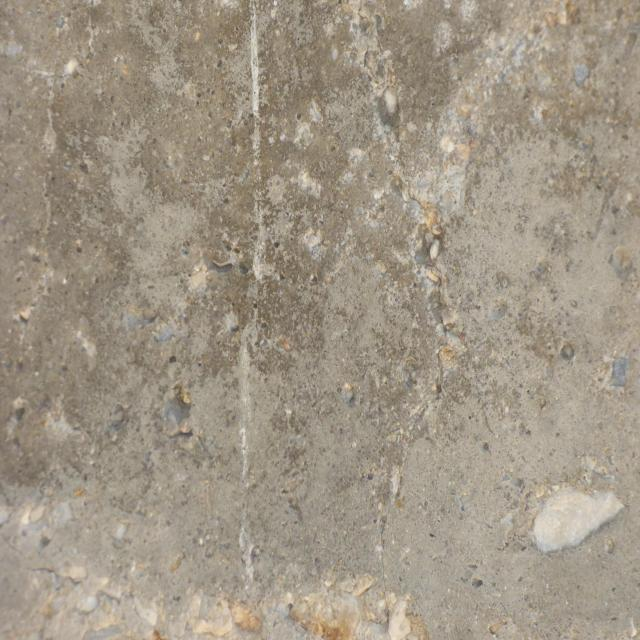concrete spalling: (174, 579, 431, 640)
vertical crack: (332, 0, 450, 583), (0, 1, 97, 468)
